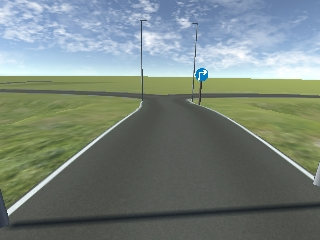right: (195, 69, 207, 81)
